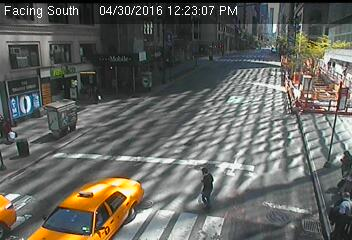neg: (245, 120, 268, 150), (190, 93, 209, 118), (300, 113, 319, 138), (294, 71, 313, 95), (75, 183, 91, 205), (92, 83, 107, 102), (140, 63, 154, 81), (250, 51, 264, 69), (55, 100, 68, 117), (204, 49, 214, 63)
pos: (188, 165, 226, 215), (328, 189, 351, 237), (333, 148, 351, 179), (335, 171, 351, 198)
